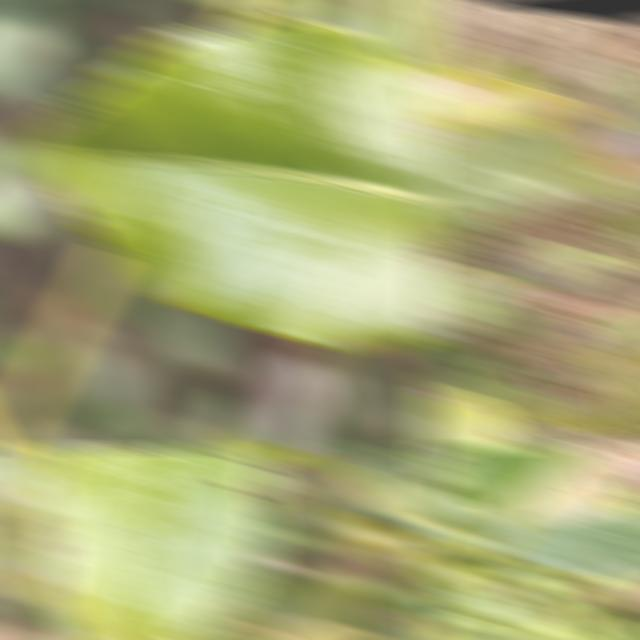Leaf: (29, 16, 438, 350), (35, 446, 280, 640), (418, 109, 605, 224), (459, 446, 640, 523), (418, 60, 574, 135), (490, 503, 640, 580), (325, 446, 438, 529), (556, 81, 640, 191), (418, 260, 519, 341), (561, 333, 640, 431), (529, 293, 640, 362), (418, 388, 530, 450), (155, 303, 235, 376), (84, 350, 148, 437), (541, 159, 640, 215), (503, 241, 615, 289), (0, 9, 62, 91), (525, 396, 640, 435), (488, 364, 554, 424), (0, 167, 53, 239), (254, 617, 399, 640), (464, 50, 544, 87), (608, 38, 640, 119), (451, 496, 508, 539), (500, 417, 559, 450)
